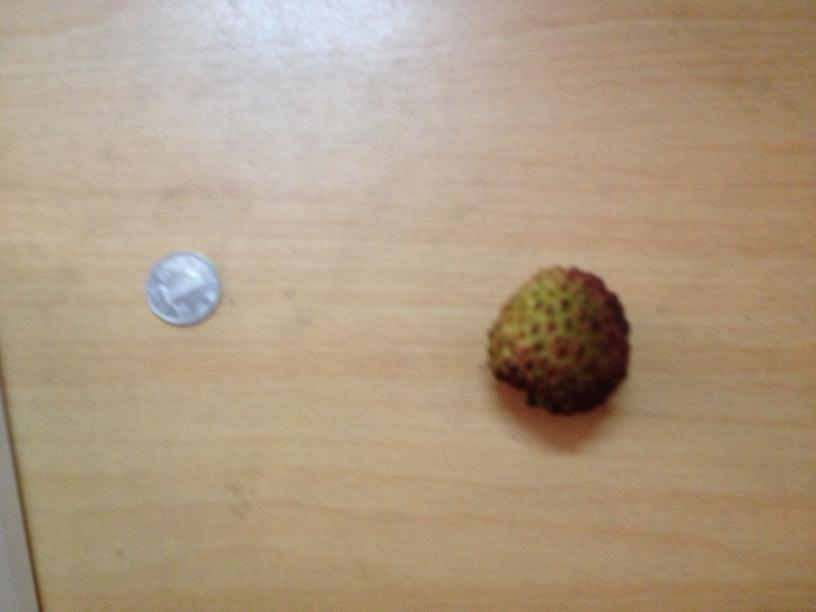coin: (147, 251, 220, 324)
litchi: (484, 268, 631, 413)
